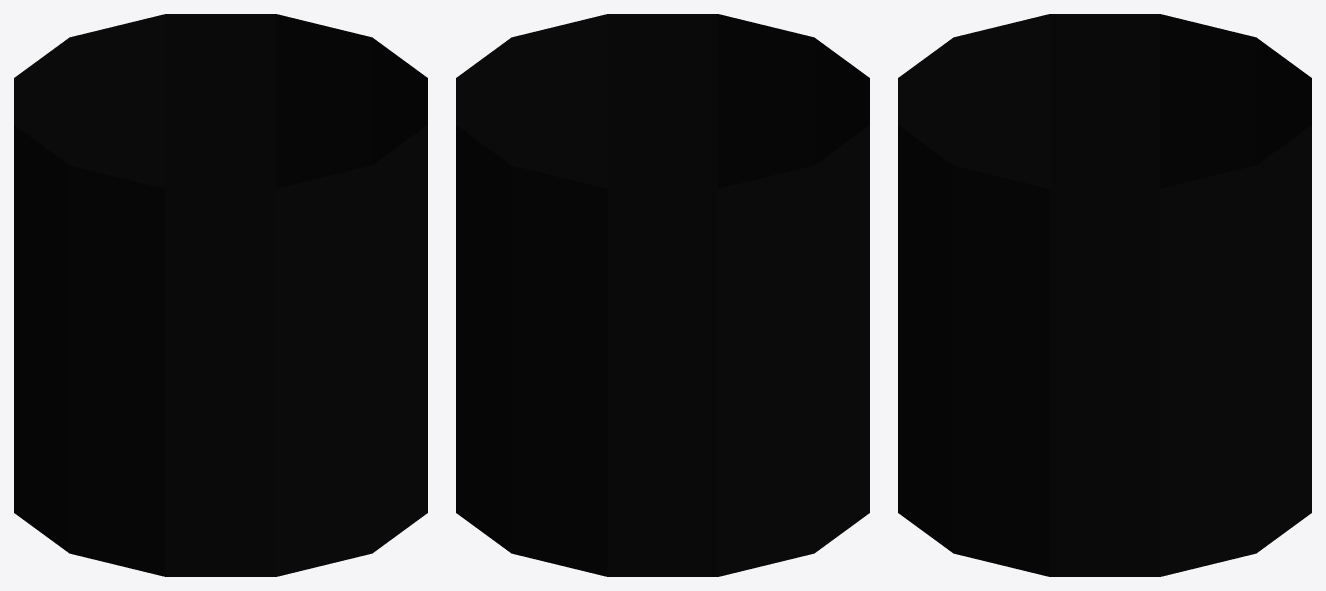
File: arrow.obj
The picture shows the model from 3 angles, left to right: view 1: azimuth 30°, elevation 25°; view 2: azimuth 150°, elevation 25°; view 3: azimuth 270°, elevation 25°; orthographic projection.
Size of the model in its own units: 1.08 by 1.12 by 1.08.
